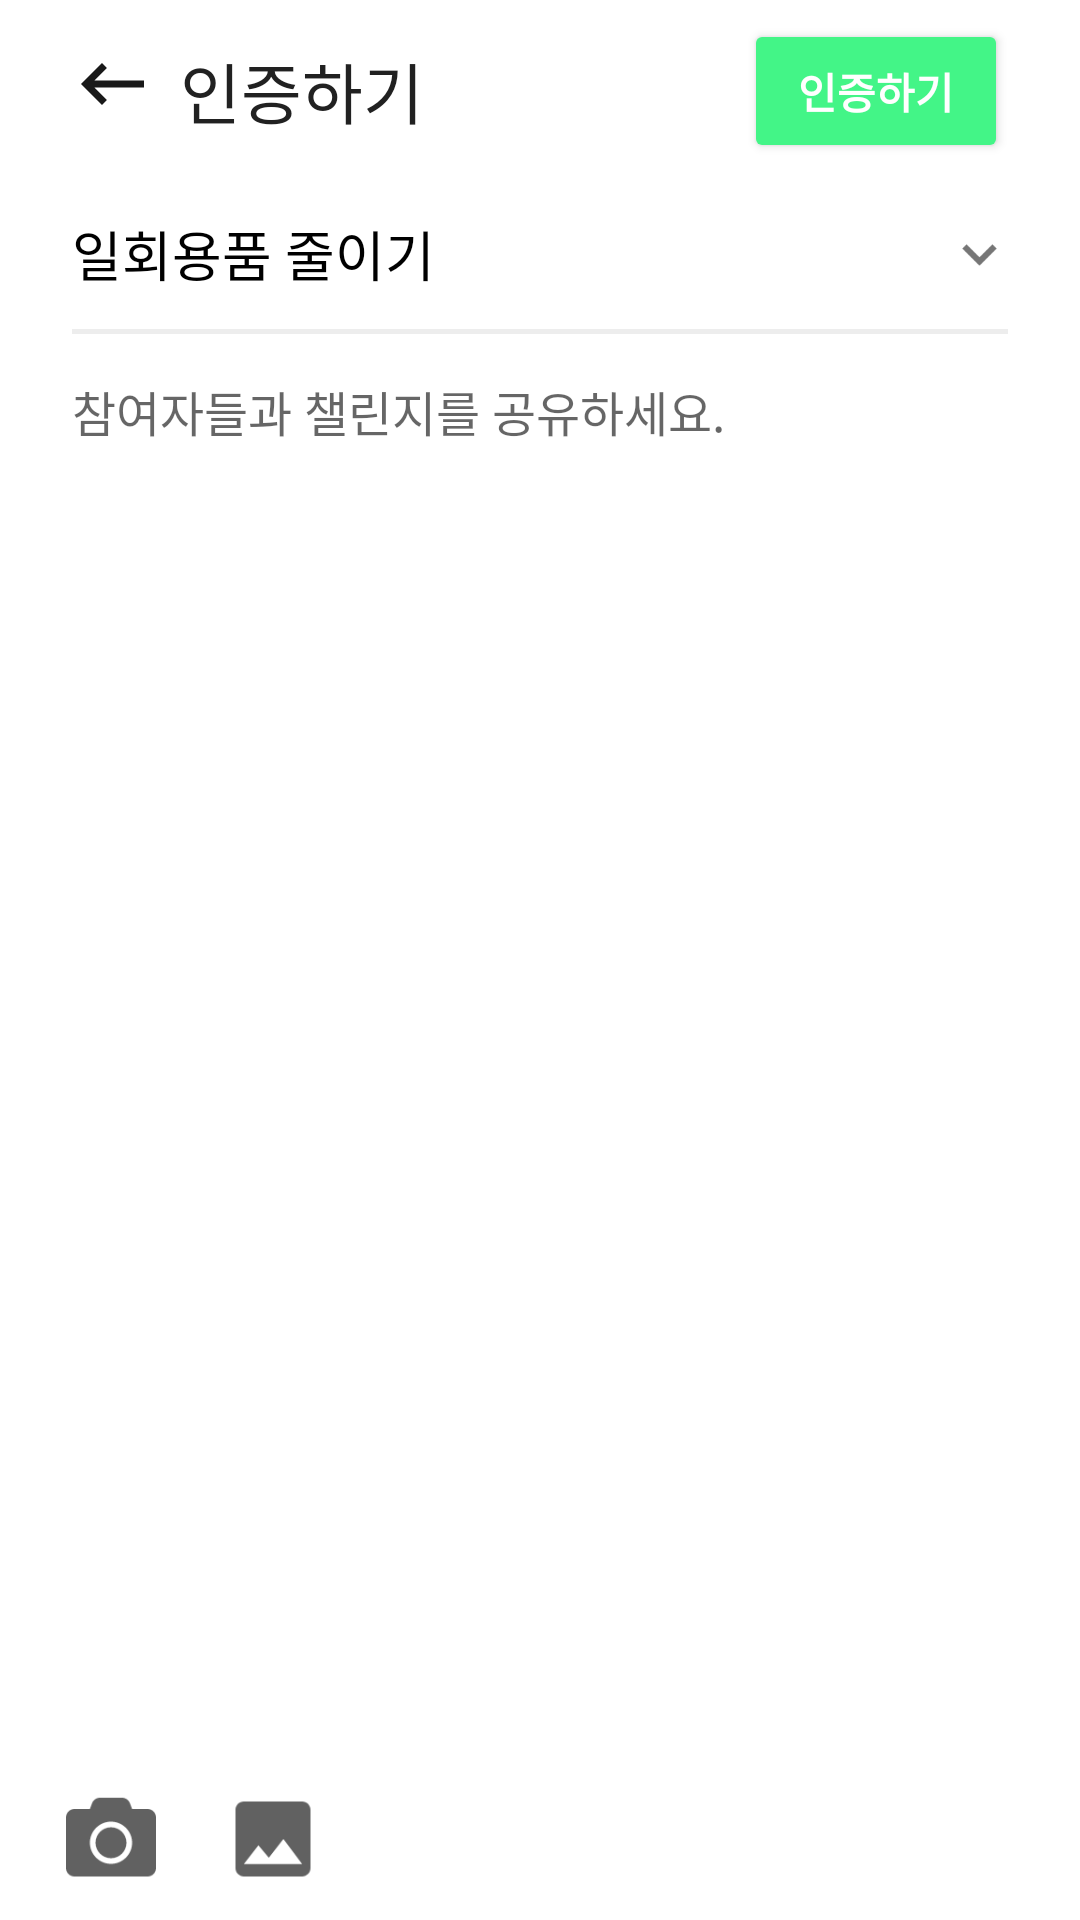

Where to tap for icons on this 1080px×1920px app screen, as point (x, y):
back: point (112, 84)
camera: point (111, 1837)
down: point (979, 255)
